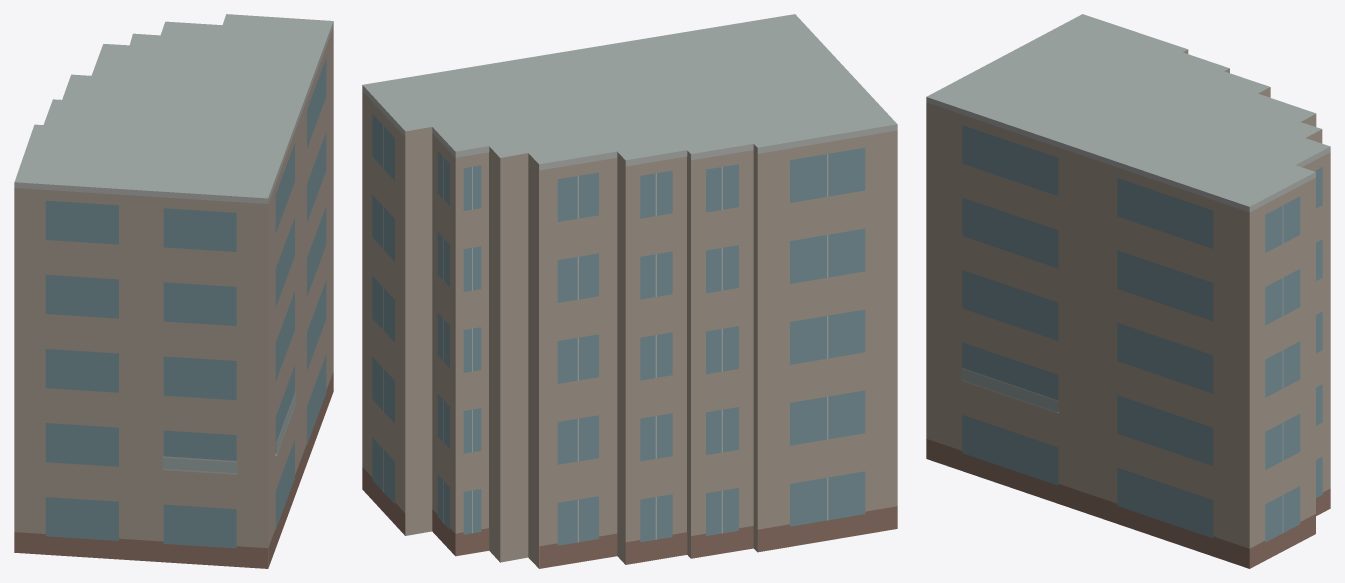
Rendered from survey-upis-32839576.glb.
The picture shows the model from 3 angles, left to right: view 1: azimuth 30°, elevation 25°; view 2: azimuth 150°, elevation 25°; view 3: azimuth 270°, elevation 25°; orthographic projection. The views are drawn at different scales.
Visible parts, largest first — view 1: survey-upis-32839576.tmp; view 2: survey-upis-32839576.tmp; view 3: survey-upis-32839576.tmp.
Part boxes in pixels (box(x1,y1,x2,y2)): survey-upis-32839576.tmp: box(14, 14, 333, 568); survey-upis-32839576.tmp: box(362, 14, 897, 568); survey-upis-32839576.tmp: box(926, 14, 1330, 568).
Bounding box in the file's own units: 18.18 × 15.9 × 16.11.
